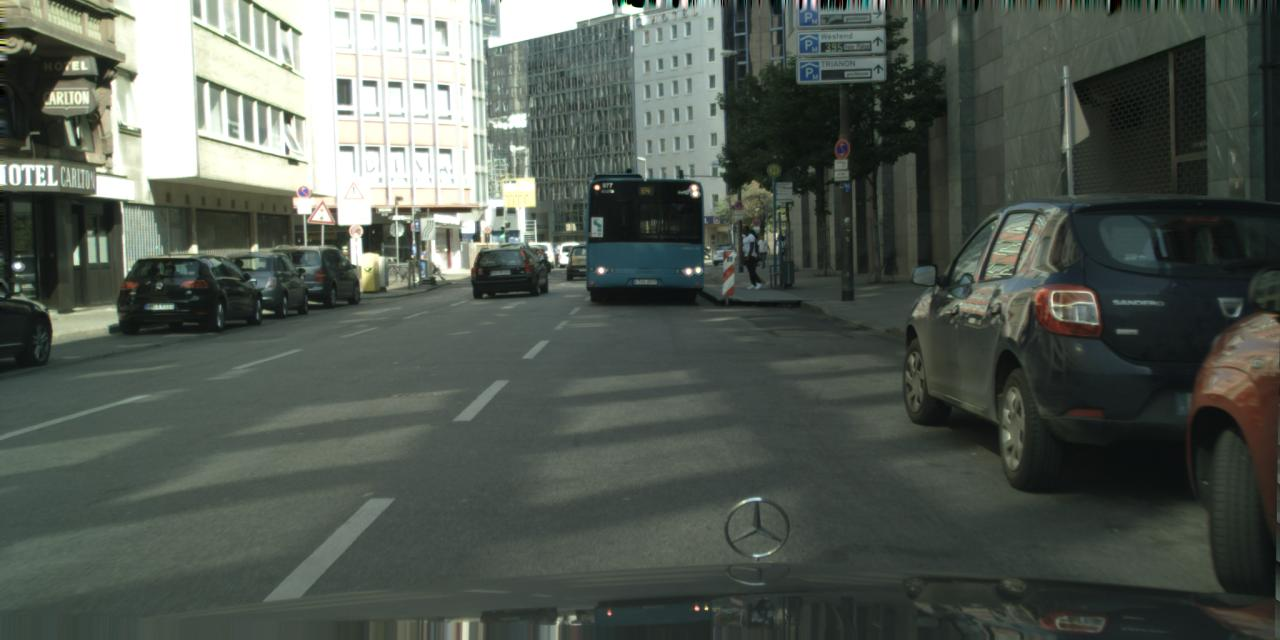ped: (742, 225, 767, 290), (418, 245, 432, 281), (755, 235, 768, 268), (430, 248, 443, 281), (776, 234, 788, 263), (552, 243, 561, 267)
